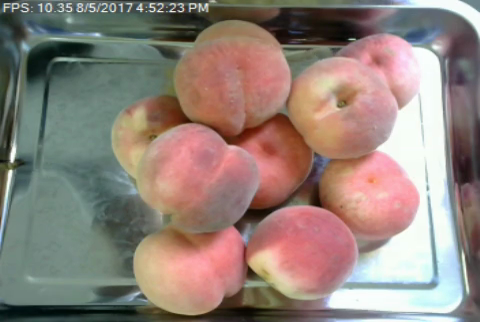Peach: (172, 19, 290, 137), (136, 122, 262, 230), (290, 54, 398, 156), (131, 223, 252, 314), (245, 205, 357, 299), (317, 149, 419, 241), (337, 31, 421, 112)
